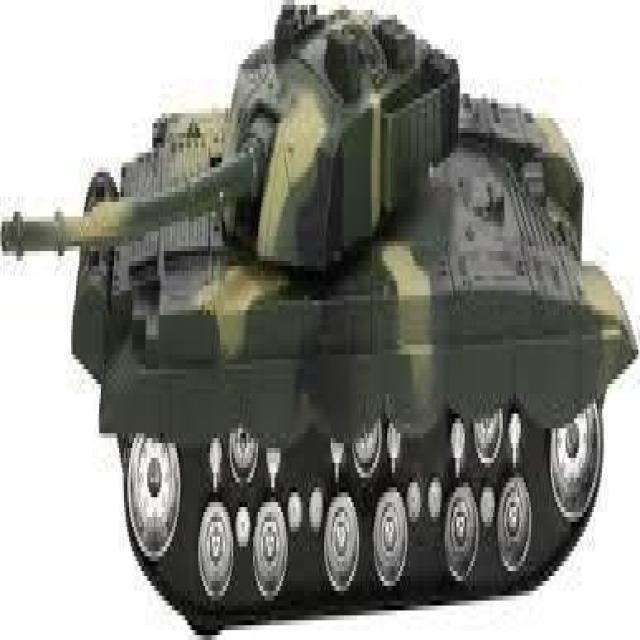Tanks: (8, 17, 568, 603)
